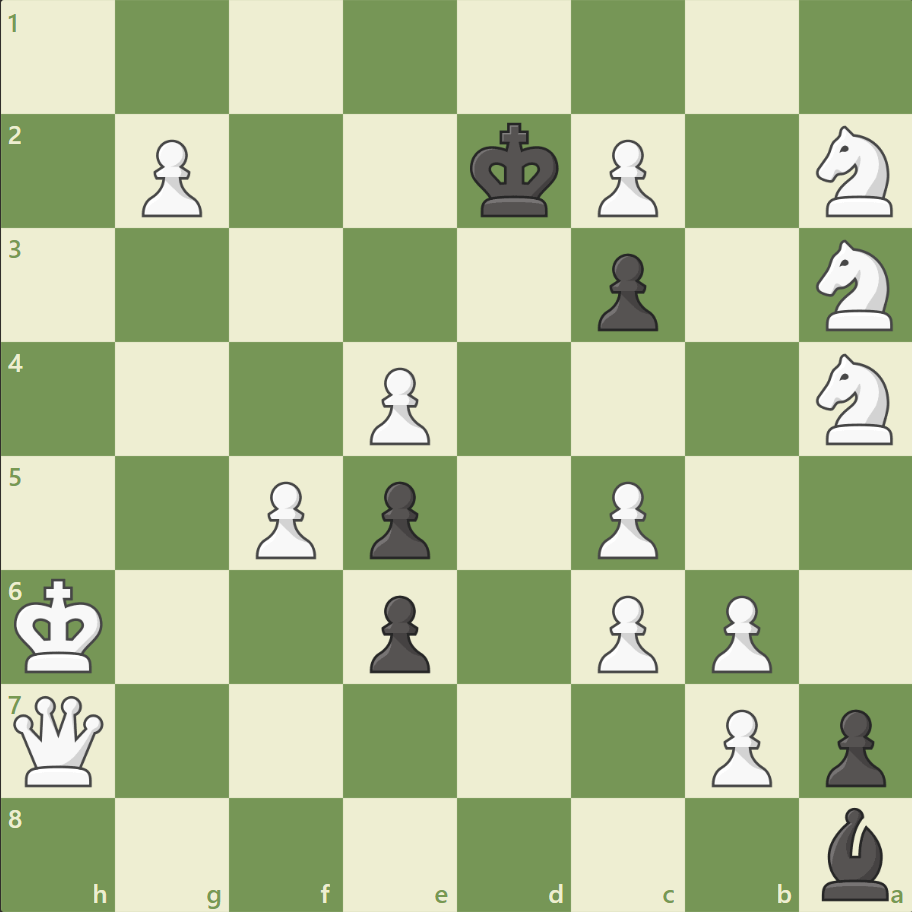K: (11, 571, 111, 679)
N: (806, 234, 903, 337), (806, 348, 903, 450), (806, 121, 903, 223)
P: (701, 700, 776, 791), (701, 586, 776, 677), (247, 473, 322, 564), (133, 132, 208, 223), (588, 586, 662, 677), (588, 473, 662, 564), (361, 359, 435, 450), (588, 132, 662, 223)
Q: (10, 690, 109, 789)
b: (812, 801, 896, 904)
k: (465, 117, 565, 225)
p: (815, 700, 889, 791), (361, 586, 435, 677), (361, 473, 435, 564), (588, 246, 662, 337)
